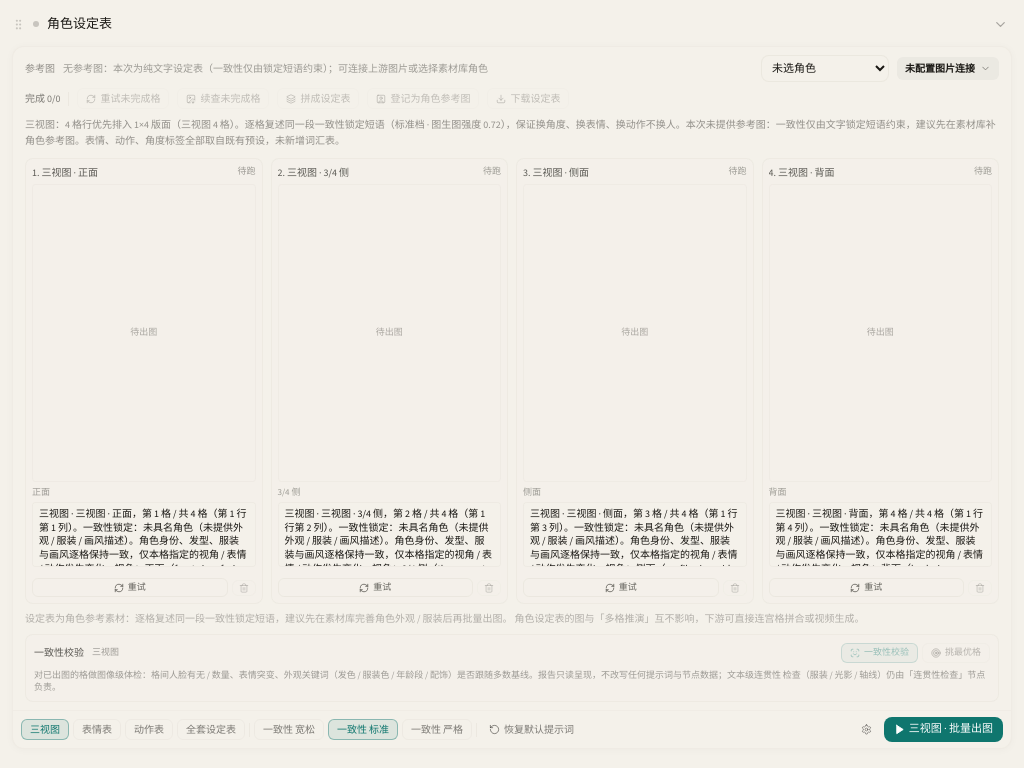
Test: CharacterSheetWorkspace：逐格提示词编辑 › 改一格：写入 characterSheetPlan + characterSheetCells（promptEdited + 中英同源），展示「已改」
Replace the text in the 3rd text box titled "编辑后该格按此文本出图（中英同源）" with "侧面格：披风下摆加长". click: (635, 534)
box: [523, 502, 746, 567]
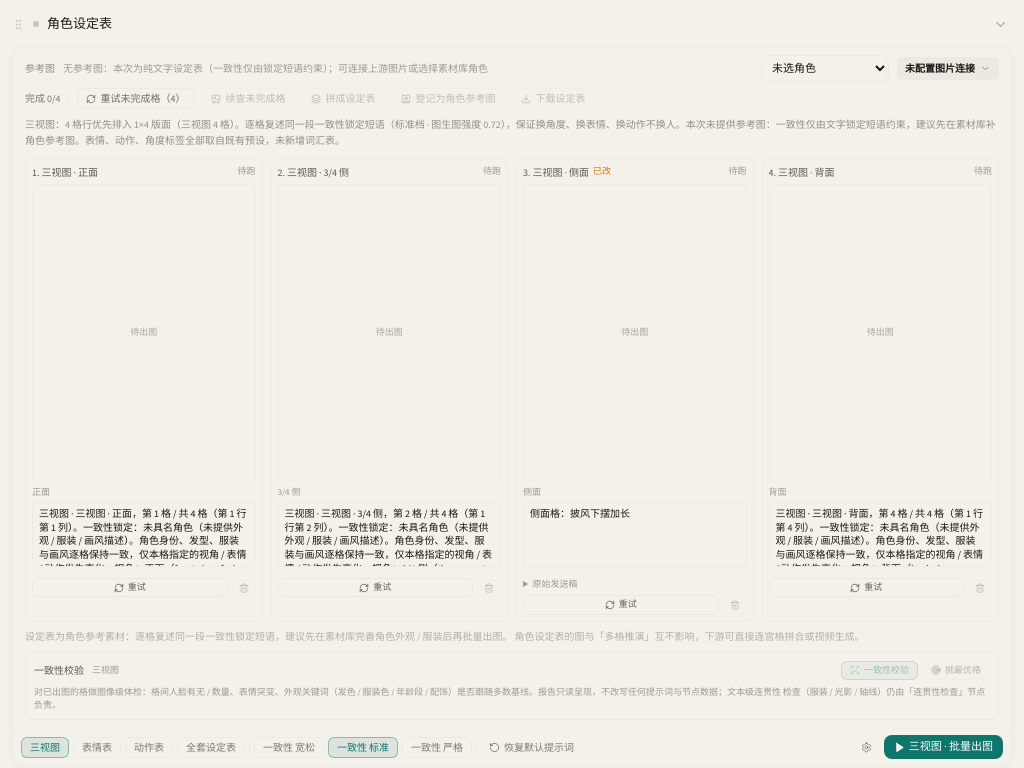
Check: the text "已改" is shown, box [593, 165, 611, 179]
